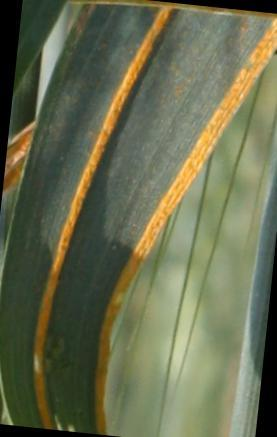Wheat: (94, 19, 277, 436), (21, 3, 185, 334)
